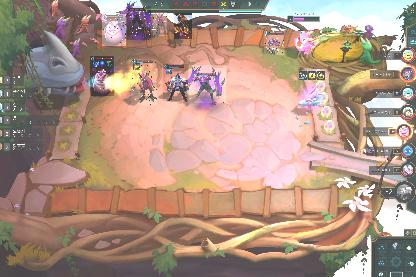1_jayce: (174, 13, 192, 39)
1_syfen: (188, 65, 226, 103), (127, 6, 151, 40)
1_zippy: (153, 12, 167, 36)
2_heimerdinger: (264, 31, 284, 55)
2_nomsy: (90, 56, 114, 96), (102, 14, 126, 46)
2_sylas: (163, 64, 189, 102)
2_zippy: (131, 59, 157, 105)
